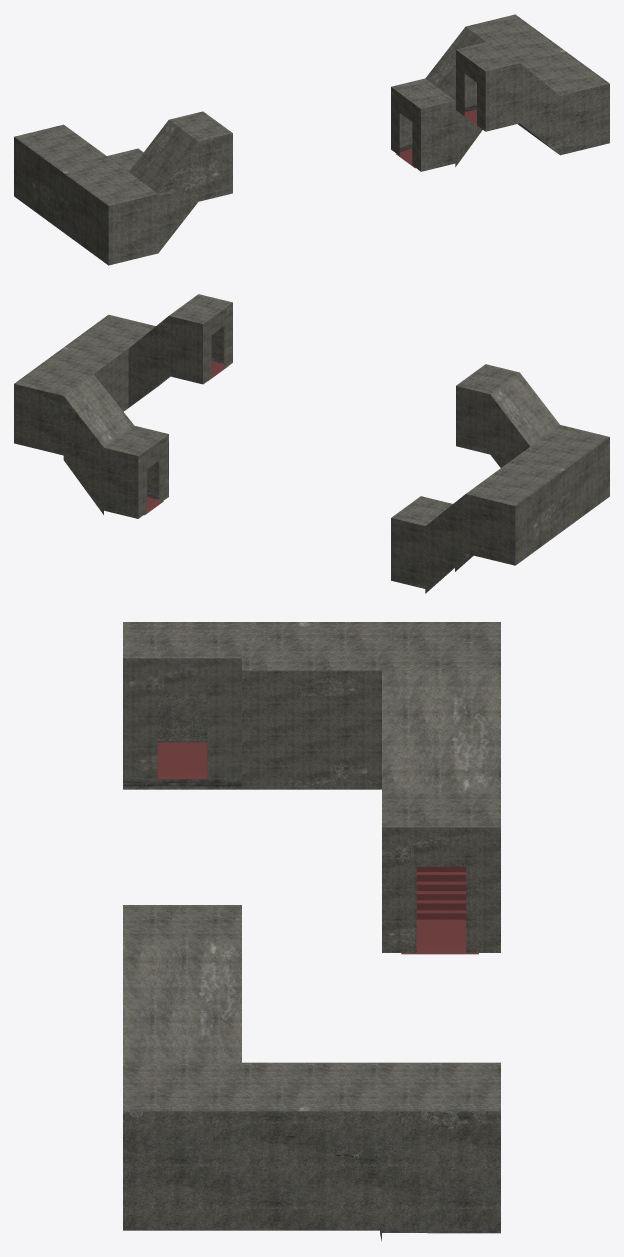
The model's file is #LVL_Entracehall-stairs-4.fbx.
The picture shows the model from 3 angles, top to bottom: view 1: azimuth 30°, elevation 25°; view 2: azimuth 150°, elevation 25°; view 3: azimuth 270°, elevation 25°; orthographic projection. The views are drawn at different scales.
Visible parts, largest first — view 1: 1gangobj_005; view 2: 1gangobj_005; view 3: 1gangobj_005.
Part boxes in pixels (box(x1,y1,x2,y2)): 1gangobj_005: box(14, 14, 609, 265); 1gangobj_005: box(14, 294, 609, 593); 1gangobj_005: box(123, 622, 500, 1241).
Bounding box in the file's own units: 122 × 35.27 × 39.73.
